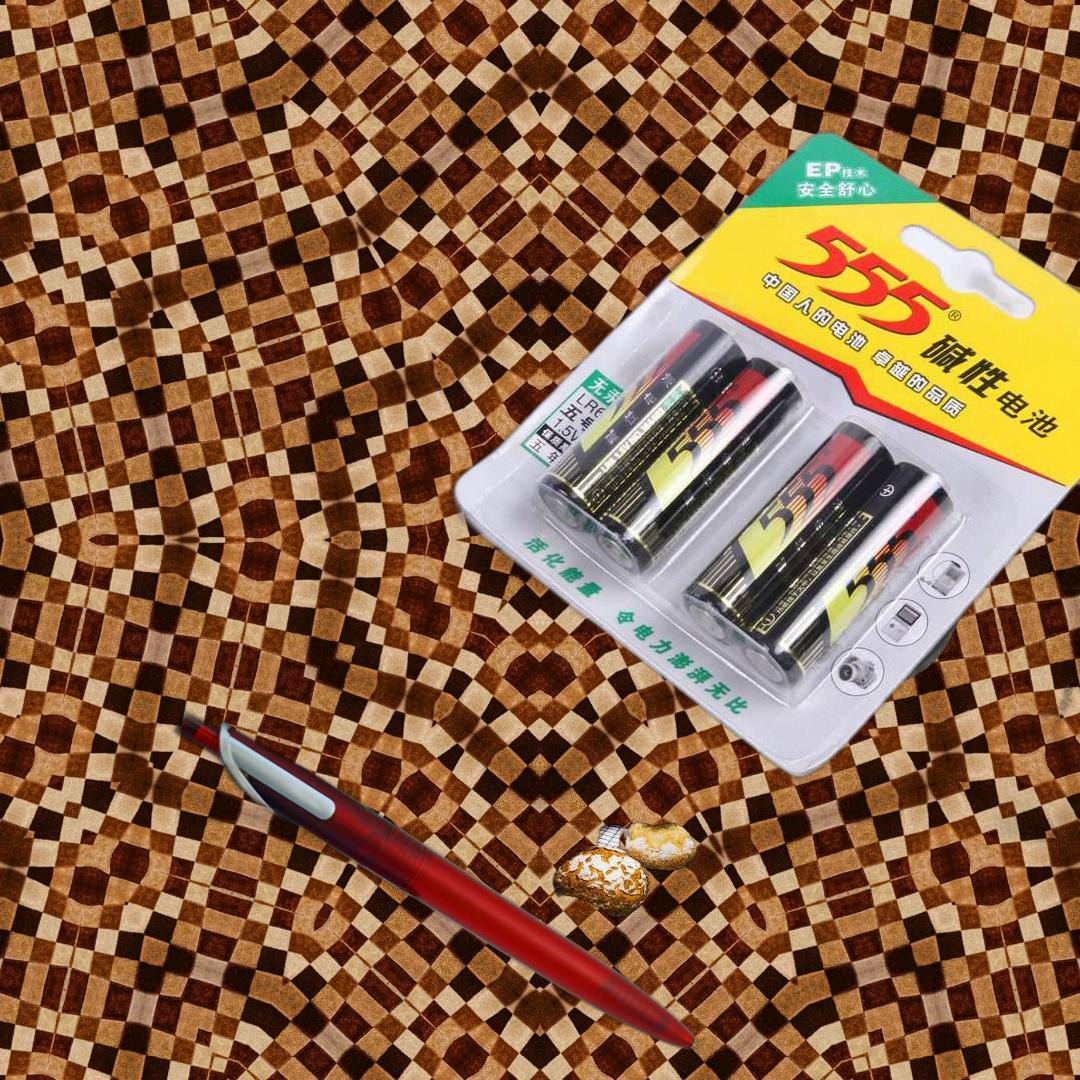battery: (442, 125, 1080, 789)
biological: (551, 781, 806, 921)
paper: (985, 583, 1080, 937)
penholder: (95, 705, 705, 1080)
shoes: (709, 269, 1058, 688)
